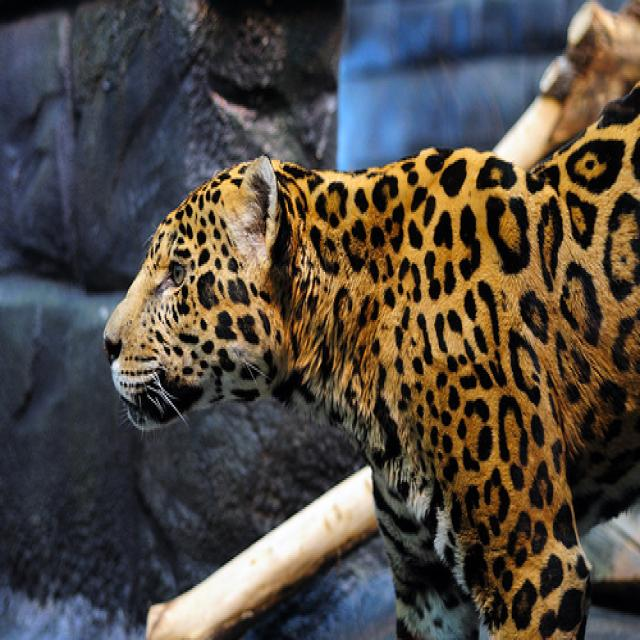Leopard: (101, 79, 638, 636)
